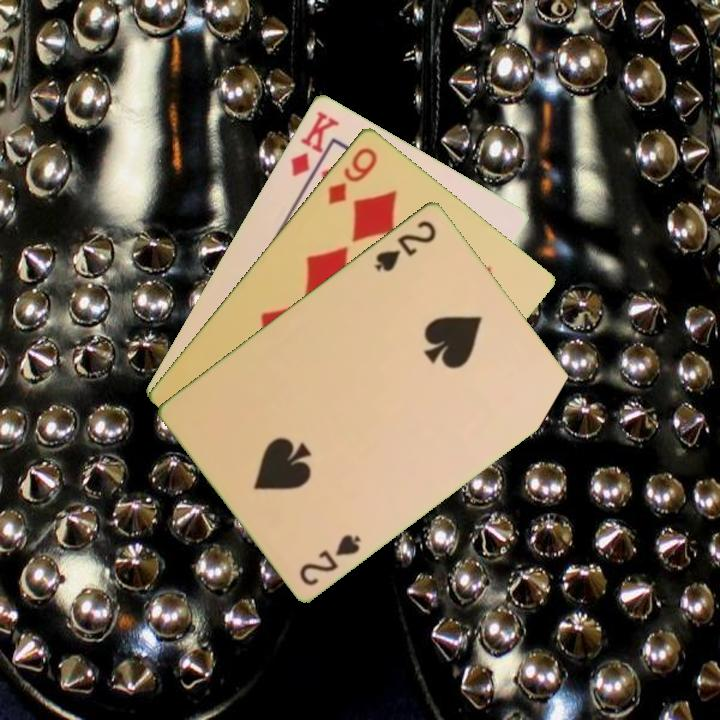2s: (370, 216, 439, 275), (295, 530, 364, 588)
9d: (324, 143, 381, 207)
Kd: (287, 106, 342, 189)
